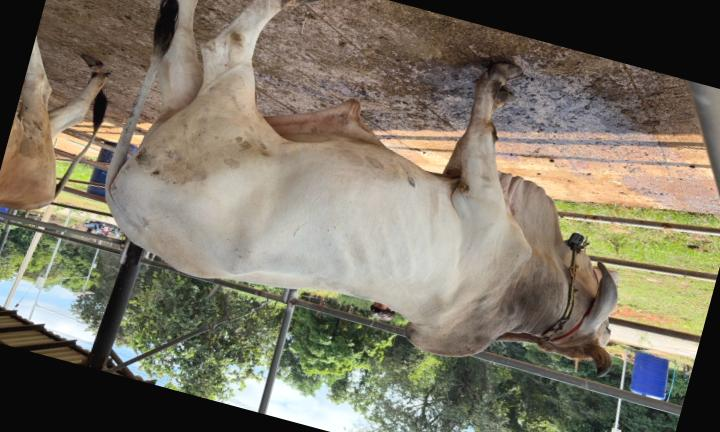Brahman: (104, 0, 616, 375)
